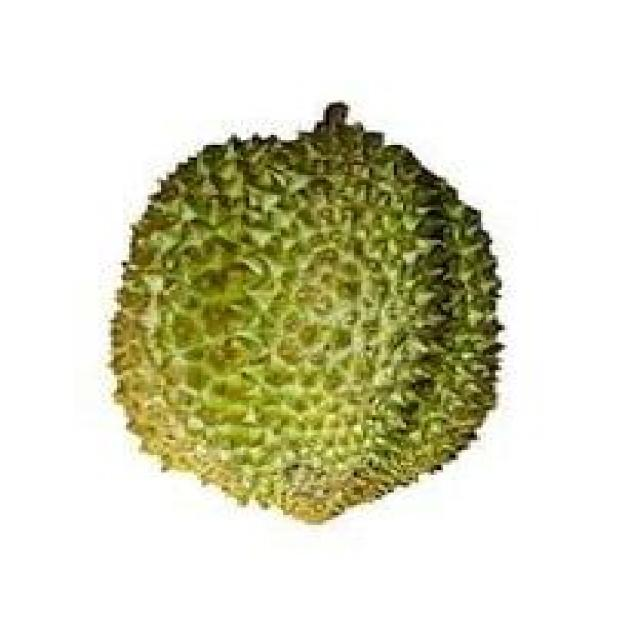fruit: (64, 122, 433, 560)
